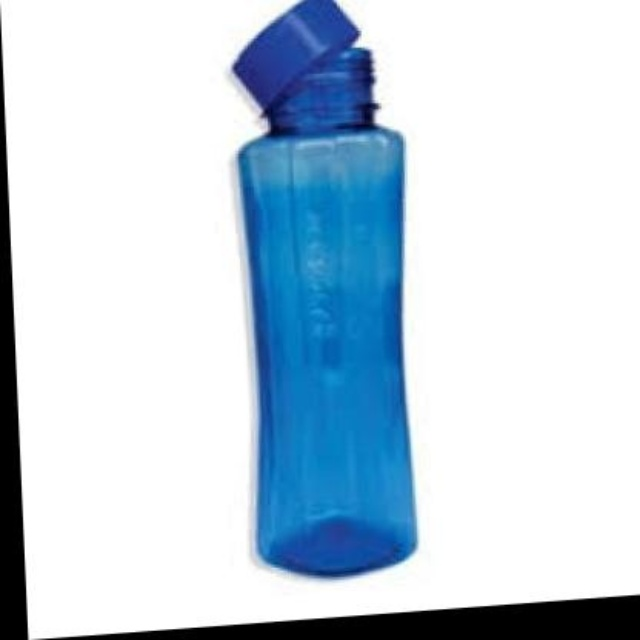trash: (234, 0, 415, 574)
